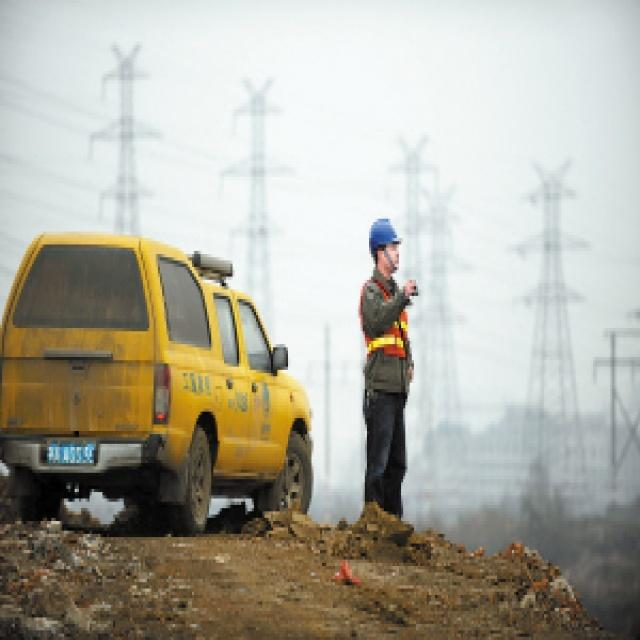helmet: (363, 283, 406, 368)
vest: (361, 374, 424, 514)
